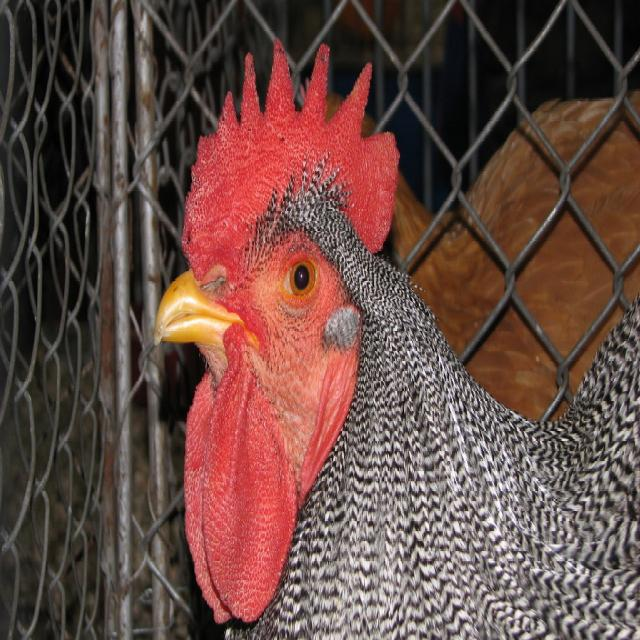Chicken: (153, 37, 640, 640)
